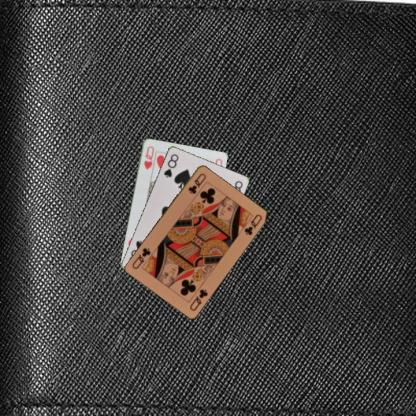8s: (161, 152, 180, 178)
Qc: (187, 286, 210, 312), (186, 170, 208, 195)
Qh: (141, 144, 155, 170)
